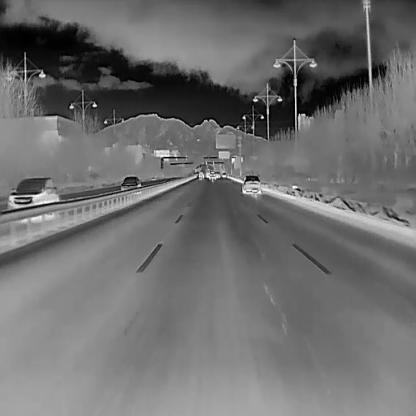car: (6, 174, 58, 210), (242, 174, 261, 194), (119, 175, 140, 191), (209, 170, 216, 180), (205, 169, 211, 178), (214, 171, 220, 178), (198, 171, 204, 178), (222, 172, 226, 177)
